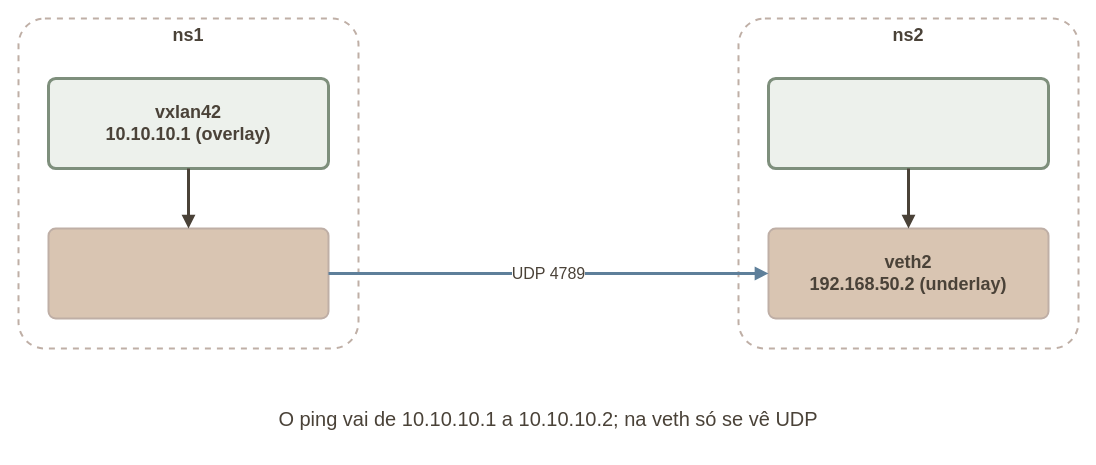
Some shapes in this 1096 by 465 pixel diagram are drawn without their labels. The shapes that lost their labels are listed below. From the top down, each one's centre as x and y in pixels, then its label:
(x=908, y=123): vxlan42 10.10.10.2 (overlay)
(x=188, y=273): veth1 192.168.50.1 (underlay)
